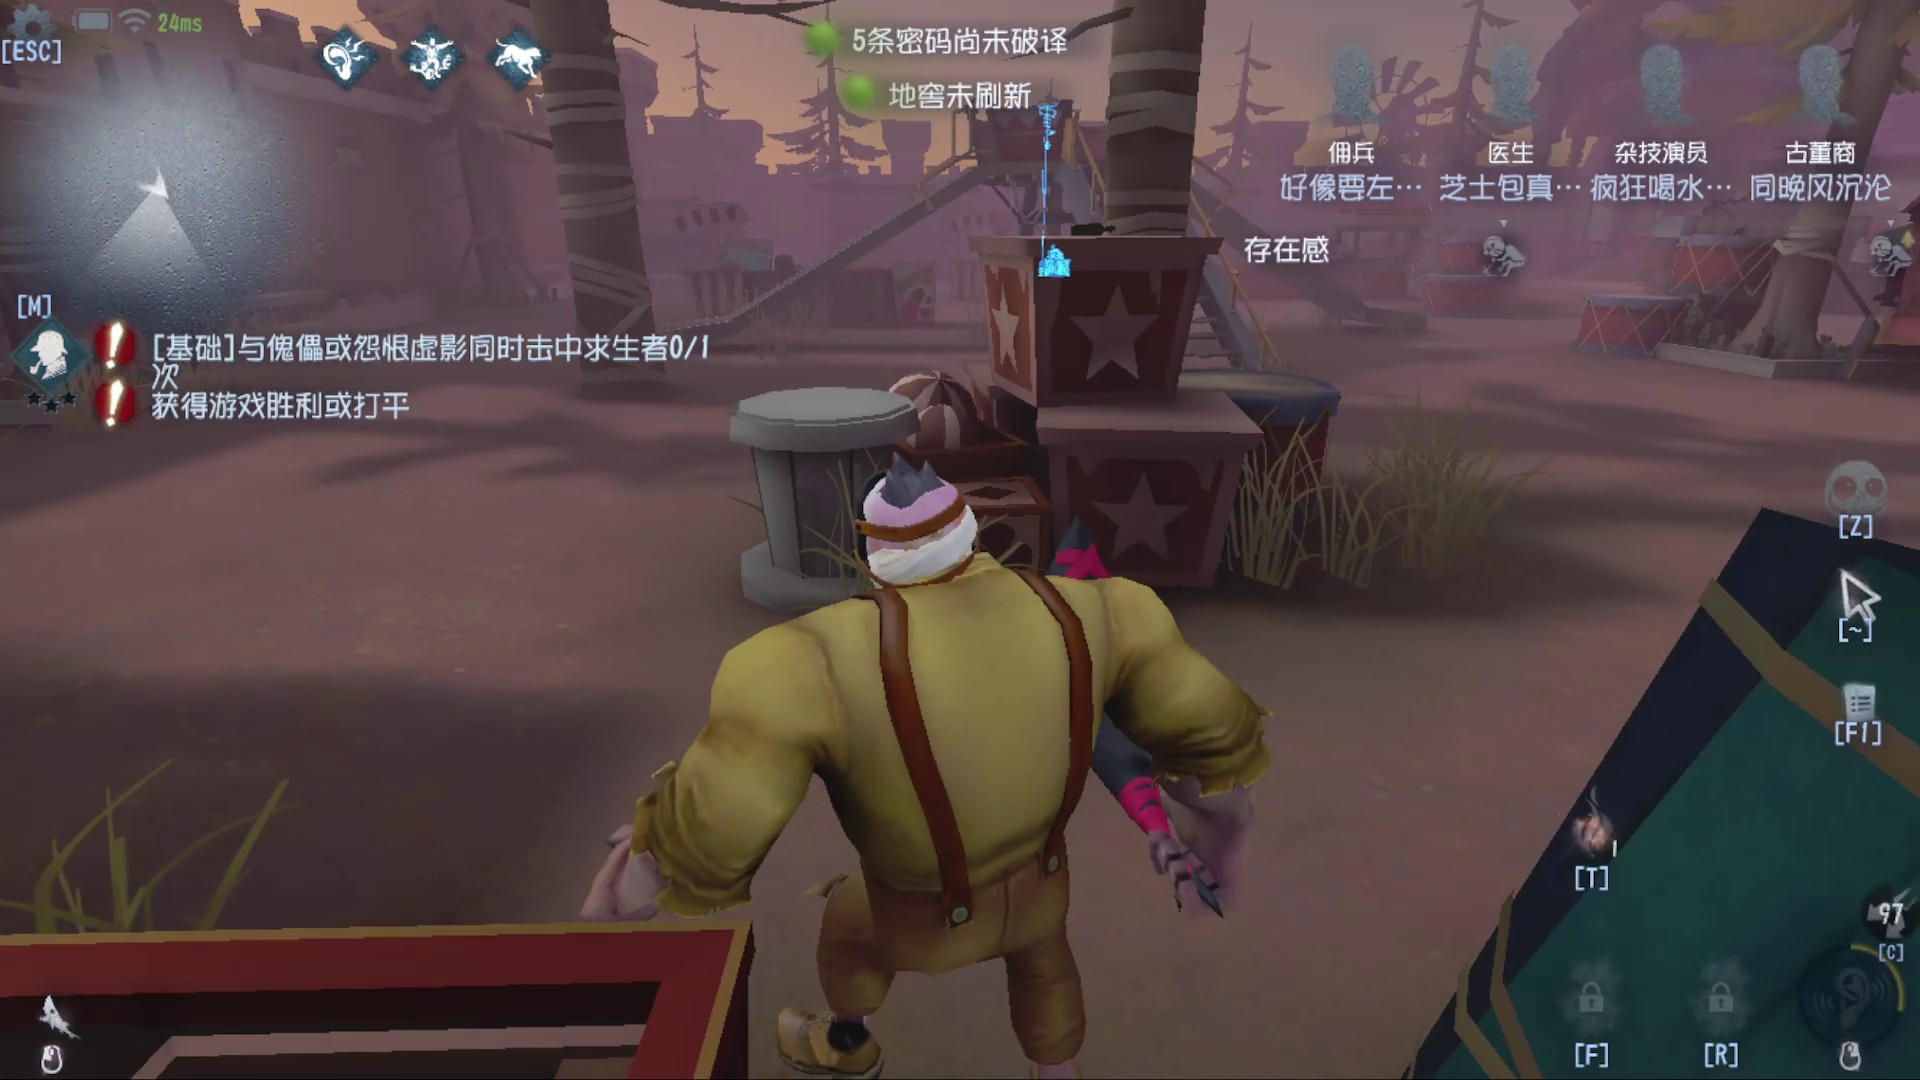密码机: (1022, 88, 1087, 287)
木板: (717, 237, 782, 277)
